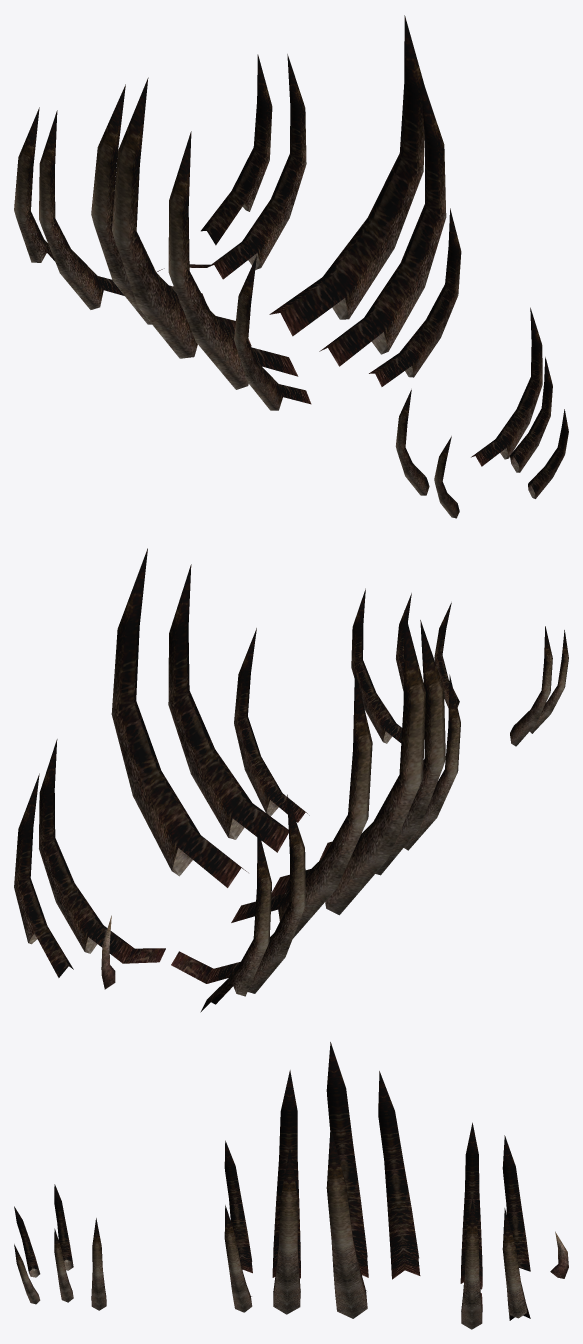
File: ob-11-03-bonetunnel05.fbx
The picture shows the model from 3 angles, top to bottom: view 1: azimuth 30°, elevation 25°; view 2: azimuth 150°, elevation 25°; view 3: azimuth 270°, elevation 25°; orthographic projection. The views are drawn at different scales.
Visible parts, largest first — view 1: 11-03-05; view 2: 11-03-05; view 3: 11-03-05.
Boxes of the visible parts, bbox=[...] form: 11-03-05: bbox=[14, 15, 568, 518]; 11-03-05: bbox=[14, 548, 568, 1012]; 11-03-05: bbox=[14, 1042, 568, 1329].
Bounding box in the file's own units: 9.67 × 9.72 × 22.37.
